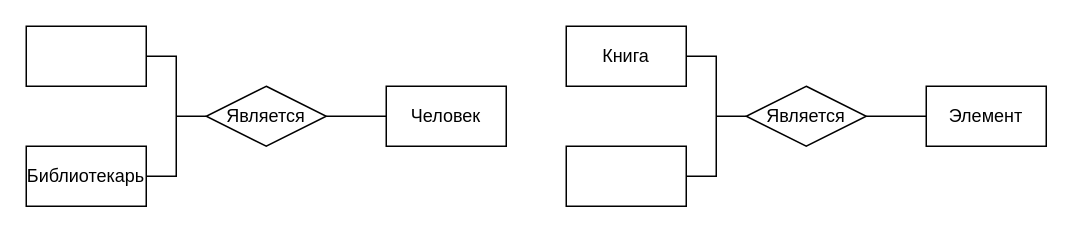
Some shapes in this 1073 by 233 pixel diagram are drawn without their labels. Each missing label, with the centre of its shape:
Журнал: pixel 625 175
Читатель: pixel 85 55
